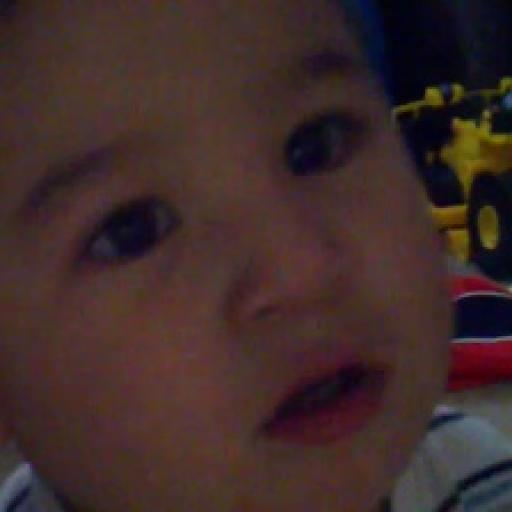Autism: (32, 0, 478, 505)
